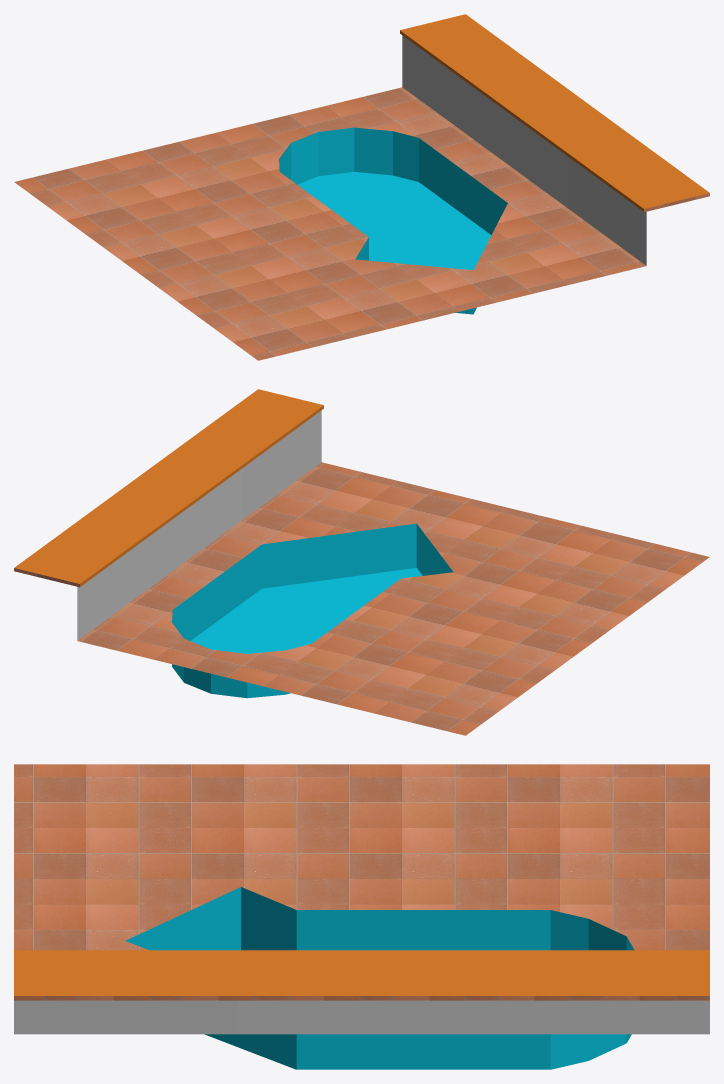
Rendered from Hagen.fbx.
3 views of the same model, one above another, from view 1: azimuth 30°, elevation 25°; view 2: azimuth 150°, elevation 25°; view 3: azimuth 270°, elevation 25° (orthographic). The views are drawn at different scales.
Parts seen in each view (by area): view 1: Hagen; view 2: Hagen; view 3: Hagen.
Boxes of the visible parts, x1,y1,x2,y2 form: Hagen: (14, 14, 709, 360); Hagen: (14, 389, 709, 735); Hagen: (14, 764, 709, 1069).
Bounding box in the file's own units: 3566 × 769 × 3341.
